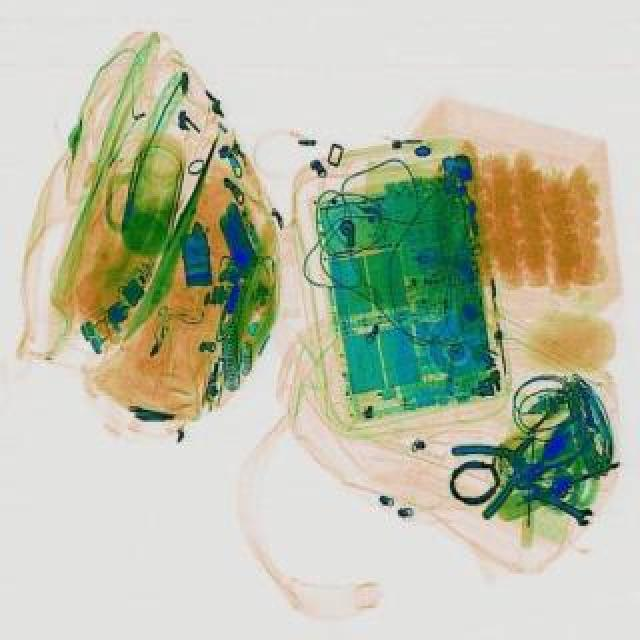scissors: (528, 480, 596, 526)
wrench: (504, 412, 600, 498)
